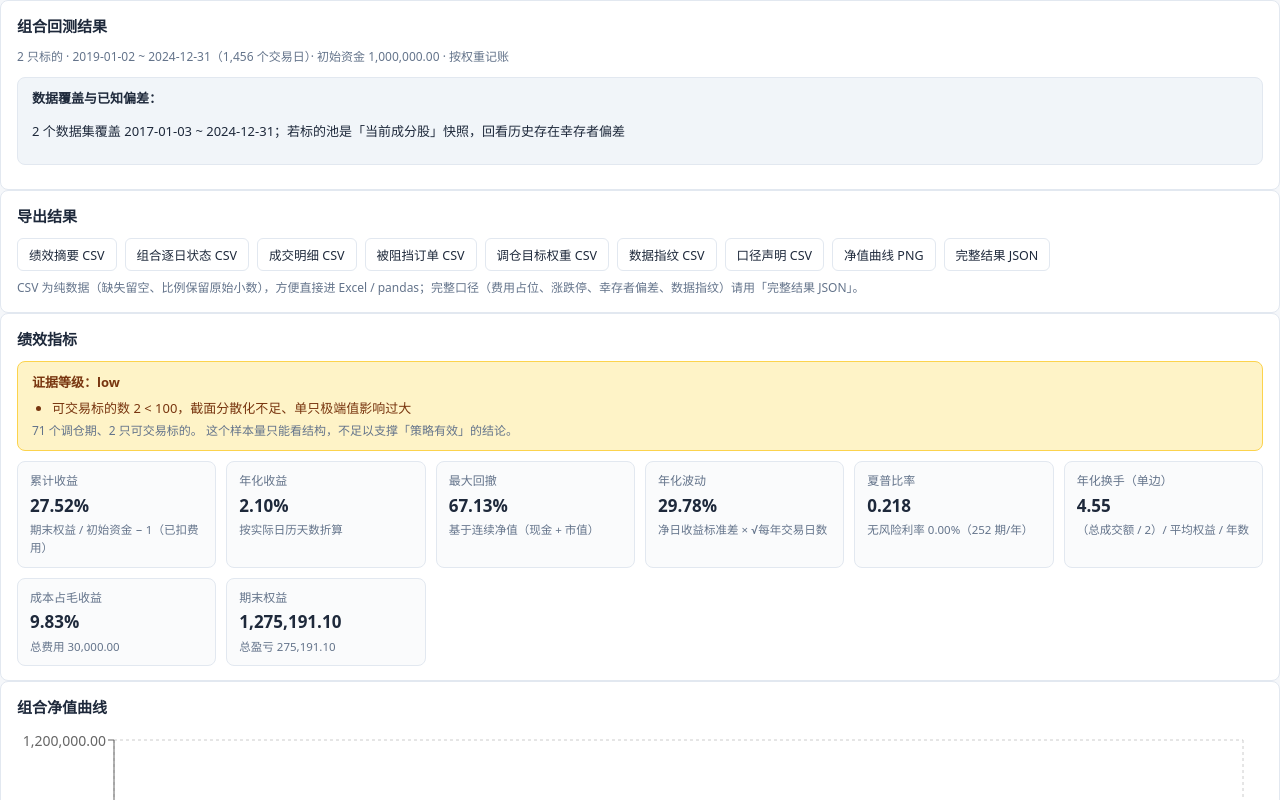
it: PortfolioResultView 导出 › 点导出会真的产出一个 Blob 并给出反馈
The image size is (1280, 800).
Click the button with test id "export-summary": (67, 255) [17, 238, 116, 271]
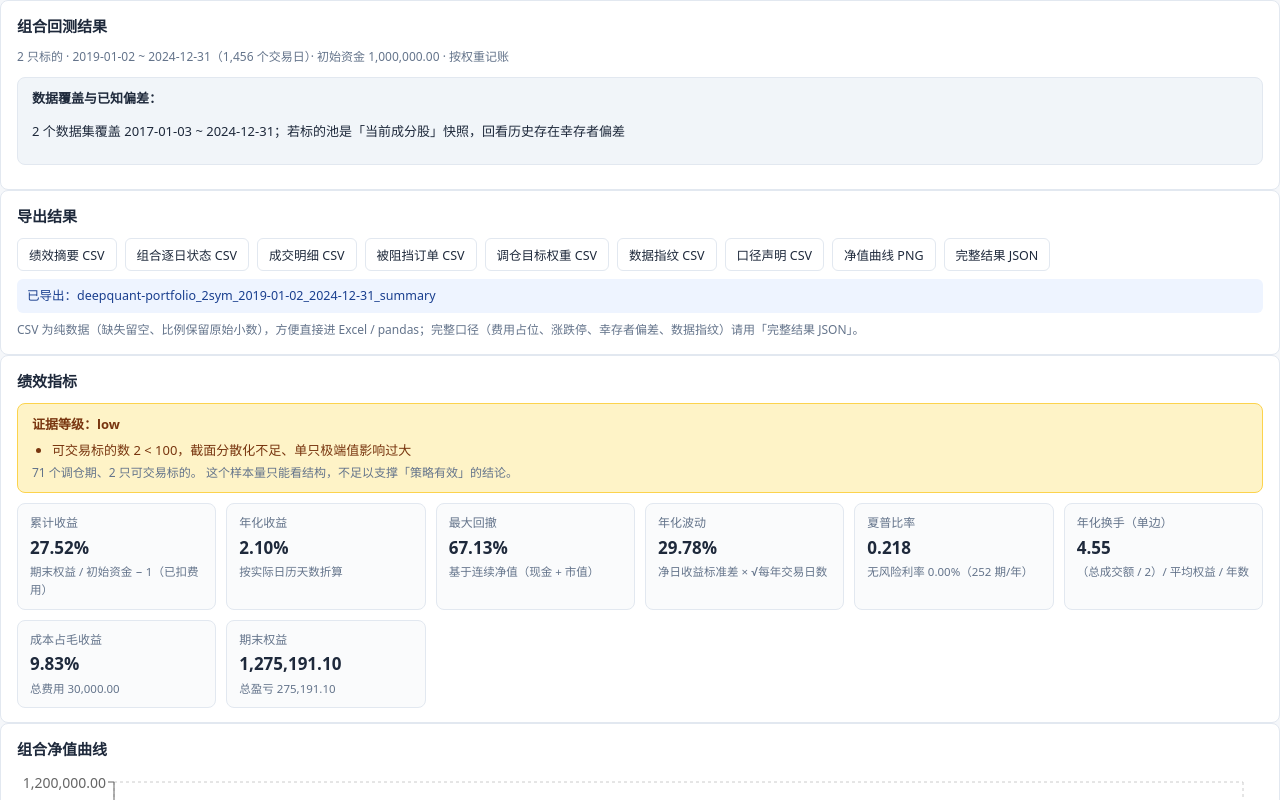
Check: the message with test id "export-feedback" shows "已导出", box [27, 287, 436, 304]
